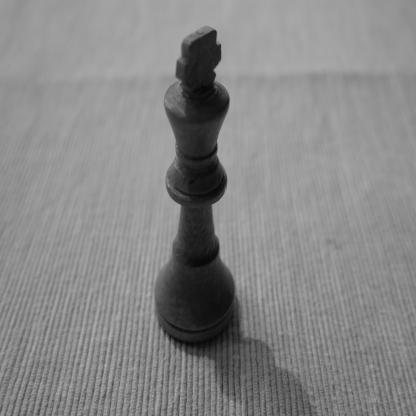white-king: (153, 24, 236, 346)
